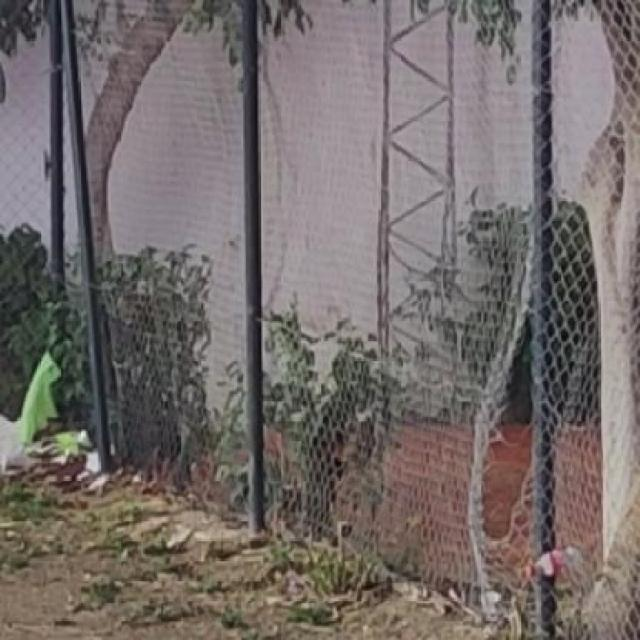fence line: (458, 332, 540, 526)
